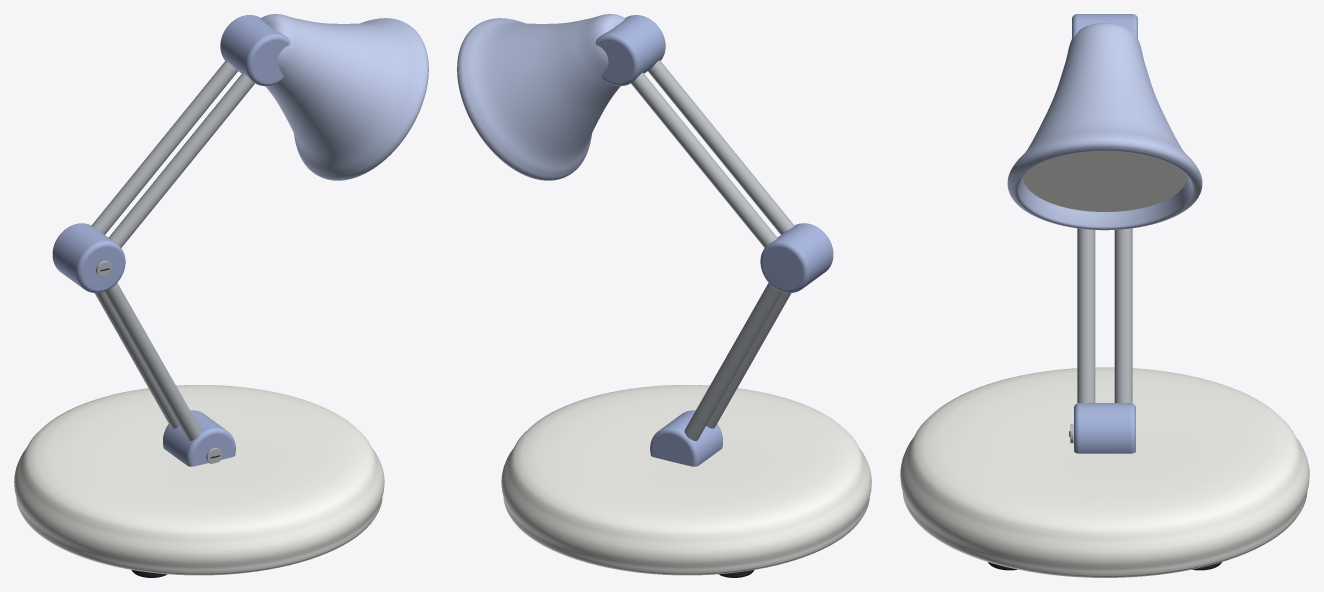
File: task-lamp.glb
3 renders of one model, left to right at view 1: azimuth 30°, elevation 25°; view 2: azimuth 150°, elevation 25°; view 3: azimuth 270°, elevation 25°, orthographic. The views are drawn at different scales.
Visible parts, largest first — view 1: sculpted-surface, smooth-double-wall-bell-shade, upper-arm-015, upper-arm-014, lower-arm-009, upper-arm-016, lower-arm-007, lower-arm-008, lower-arm-006; view 2: sculpted-surface, smooth-double-wall-bell-shade, lower-arm-009, upper-arm-014, upper-arm-015, upper-arm-016, lower-arm-006, lower-arm-008, lower-arm-007; view 3: sculpted-surface, smooth-double-wall-bell-shade, recessed-opal-light-disk, lower-arm-006, lower-arm-007, lower-arm-008, upper-arm-016.
Boxes of the visible parts, x1,y1,x2,y2 form: sculpted-surface: (14, 385, 384, 575); smooth-double-wall-bell-shade: (260, 14, 428, 180); upper-arm-015: (108, 72, 254, 247); upper-arm-014: (91, 60, 237, 234); lower-arm-009: (52, 223, 125, 292); upper-arm-016: (220, 15, 290, 86); lower-arm-007: (104, 283, 201, 440); lower-arm-008: (163, 410, 235, 466); lower-arm-006: (94, 292, 179, 428); sculpted-surface: (501, 385, 871, 575); smooth-double-wall-bell-shade: (457, 14, 625, 180); lower-arm-009: (760, 223, 833, 292); upper-arm-014: (631, 72, 777, 247); upper-arm-015: (648, 60, 794, 234); upper-arm-016: (595, 15, 665, 86); lower-arm-006: (684, 283, 781, 440); lower-arm-008: (650, 410, 722, 466); lower-arm-007: (706, 292, 791, 428); sculpted-surface: (900, 367, 1309, 577); smooth-double-wall-bell-shade: (1007, 23, 1202, 230); recessed-opal-light-disk: (1022, 151, 1187, 211); lower-arm-006: (1114, 228, 1132, 403); lower-arm-007: (1077, 228, 1095, 403); lower-arm-008: (1074, 403, 1135, 453); upper-arm-016: (1072, 14, 1137, 39).
Bounding box in the file's own units: 1.63 × 2 × 1.4.
